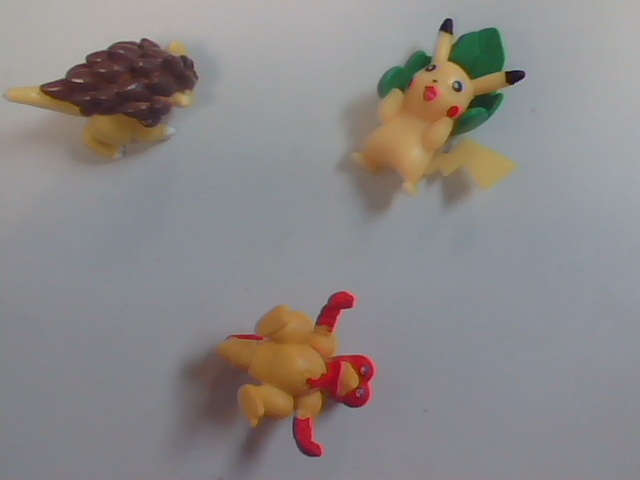magmar: (199, 269, 429, 470)
pikachu: (331, 10, 535, 217)
sandslash: (15, 6, 218, 205)
